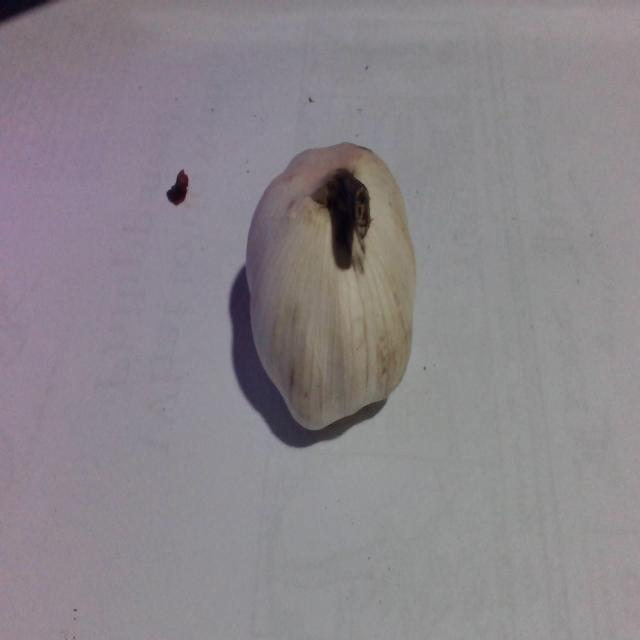garlic: (242, 125, 416, 434)
